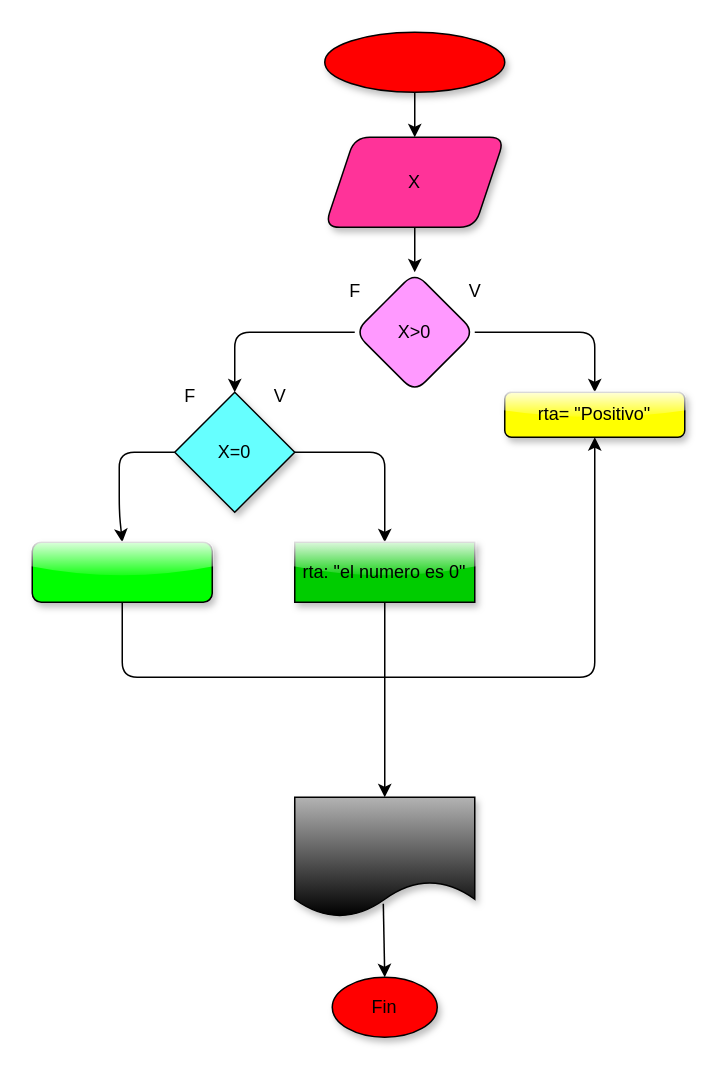
Image size: 720x1074. Some labels were removed from this diagram. Each missing label, with the centre of its shape:
Inicio: point (415, 64)
rta: point (385, 859)
rta: "negativo": point (123, 574)
